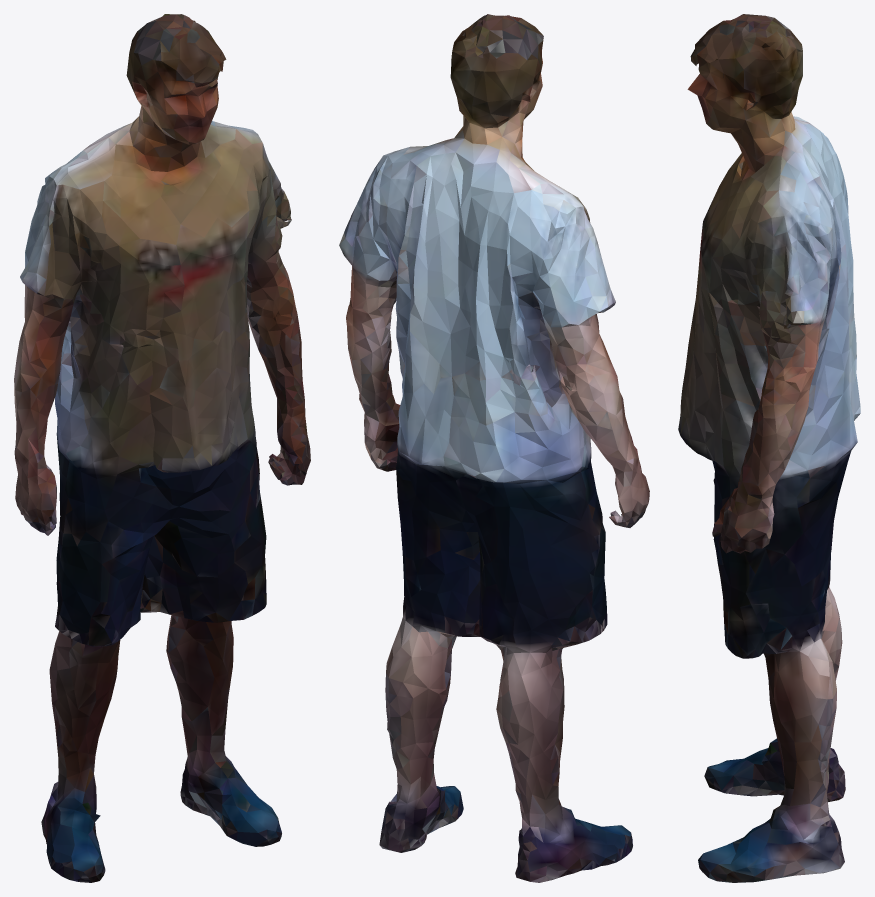
The picture shows the model from 3 angles, left to right: view 1: azimuth 30°, elevation 25°; view 2: azimuth 150°, elevation 25°; view 3: azimuth 270°, elevation 25°; orthographic projection.
Visible parts, largest first — view 1: m.obj; view 2: m.obj; view 3: m.obj.
Part boxes in pixels (bbox=[...]): m.obj: bbox=[14, 14, 310, 882]; m.obj: bbox=[339, 14, 649, 882]; m.obj: bbox=[678, 14, 860, 882].
Bounding box in the file's own units: 0.6903 × 1.9 × 0.3827.
Materials: 1 (1 with a texture image).
